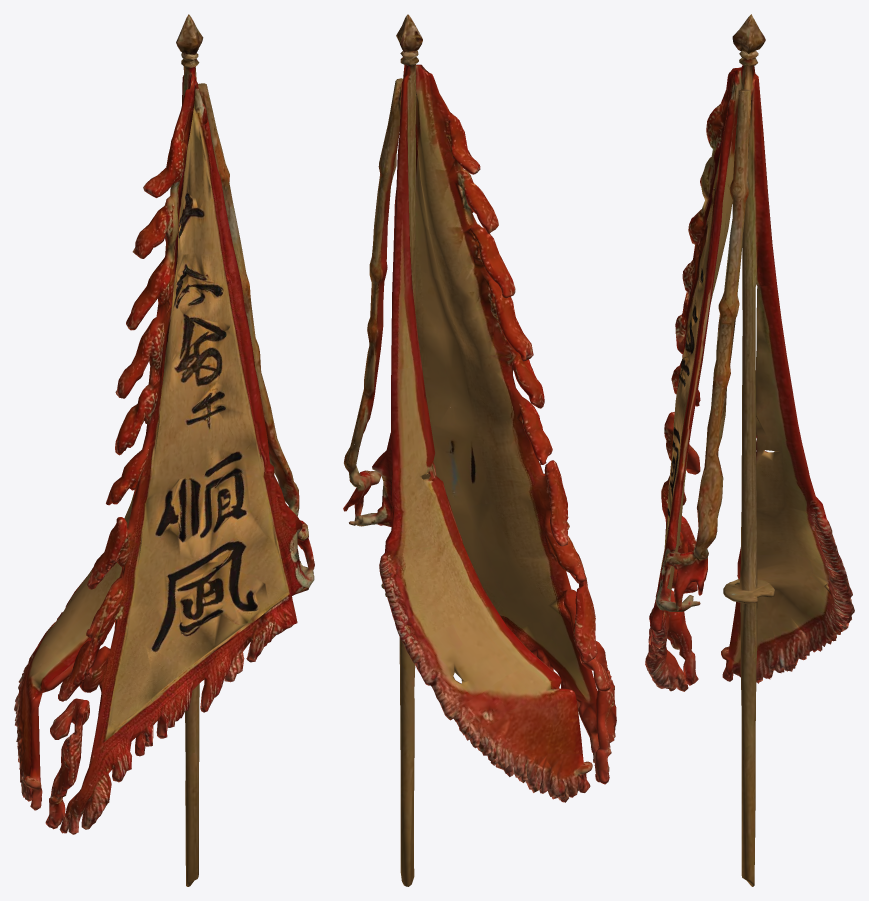
The model's file is flag-opt.glb.
The picture shows the model from 3 angles, left to right: view 1: azimuth 30°, elevation 25°; view 2: azimuth 150°, elevation 25°; view 3: azimuth 270°, elevation 25°; orthographic projection.
Parts seen in each view (by area): view 1: tripo_node_292b6073-72fc-4b0f-a466-98c4c9562720; view 2: tripo_node_292b6073-72fc-4b0f-a466-98c4c9562720; view 3: tripo_node_292b6073-72fc-4b0f-a466-98c4c9562720.
Boxes of the visible parts, x1,y1,x2,y2 form: tripo_node_292b6073-72fc-4b0f-a466-98c4c9562720: (14,14,314,886); tripo_node_292b6073-72fc-4b0f-a466-98c4c9562720: (343,14,616,886); tripo_node_292b6073-72fc-4b0f-a466-98c4c9562720: (645,14,854,886).
Bounding box in the file's own units: 0.3102 × 0.9826 × 0.2142.
Materials: 1 (1 with a texture image).
